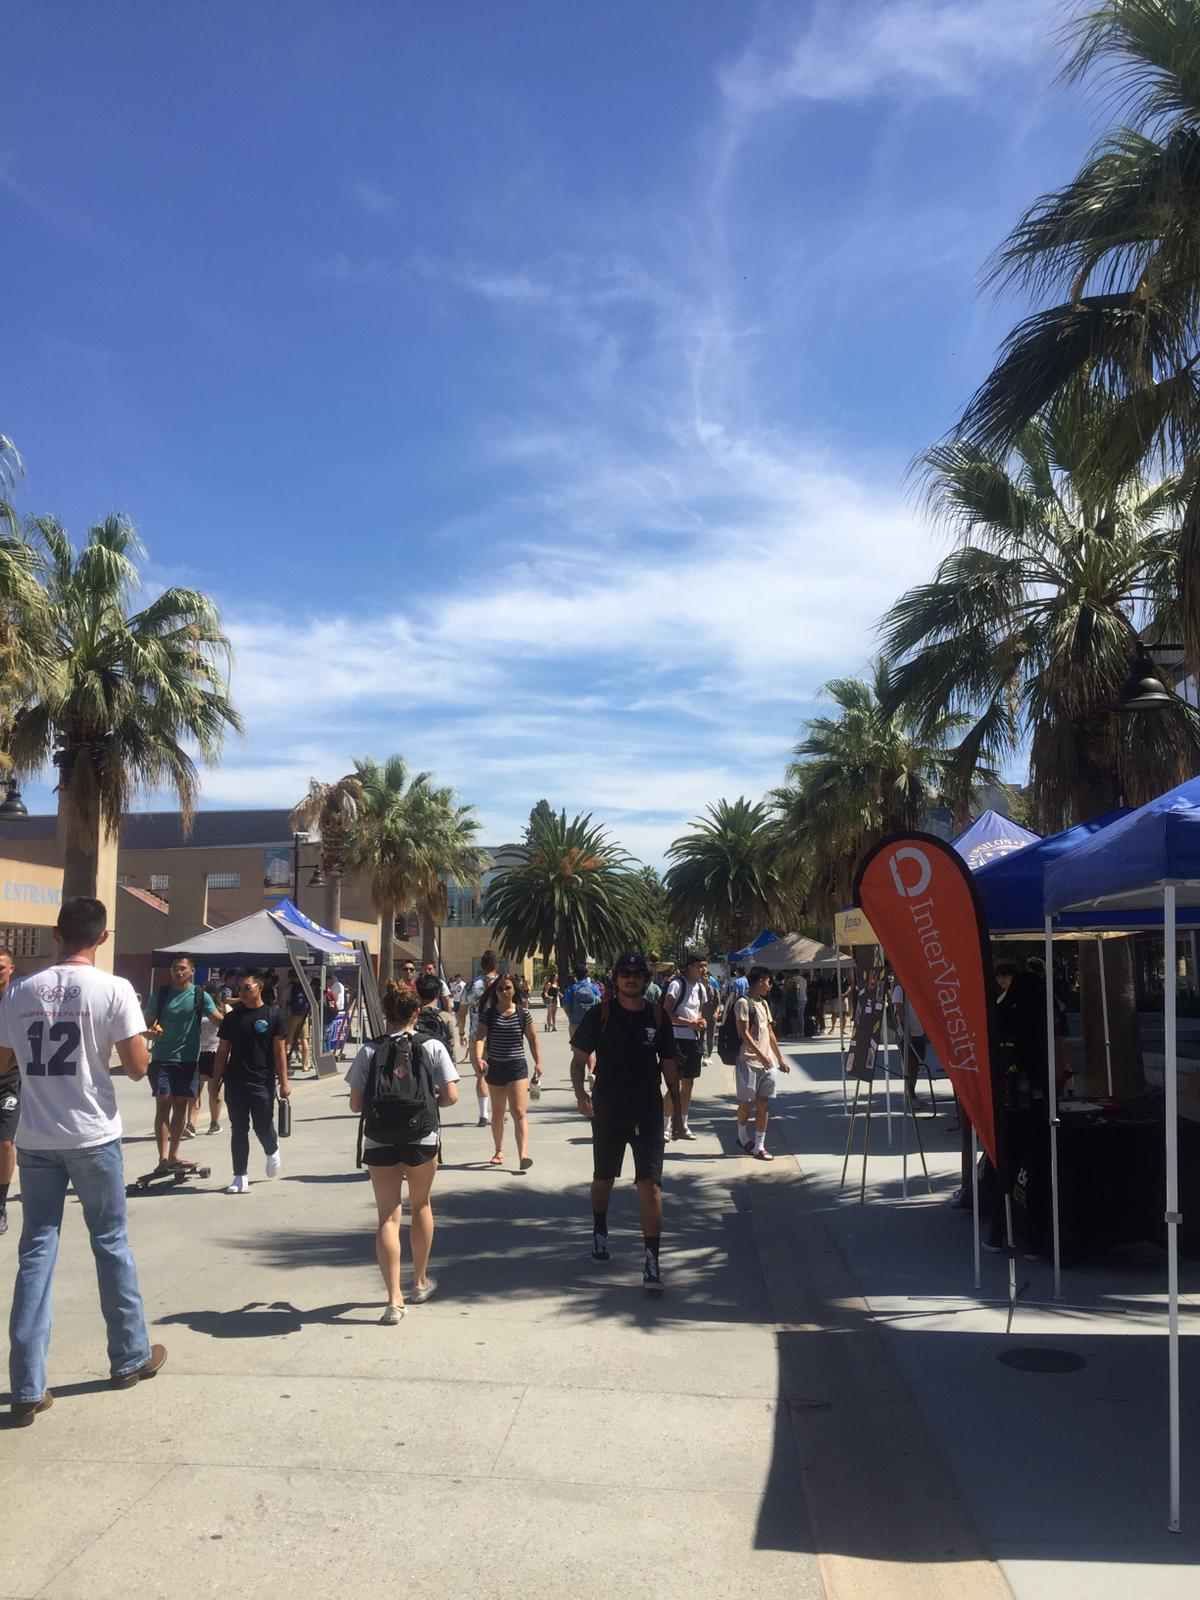plants: (1082, 8, 1200, 794), (881, 401, 1092, 743), (9, 518, 198, 898), (329, 777, 482, 968), (498, 801, 647, 970), (812, 708, 950, 850), (674, 808, 792, 950)
